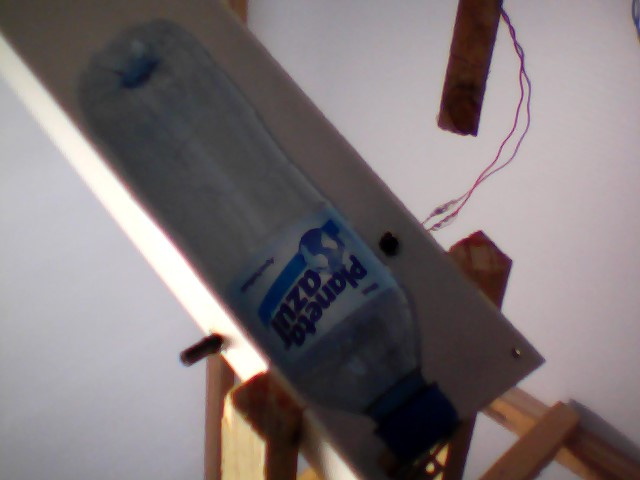plastico: (71, 10, 464, 469)
